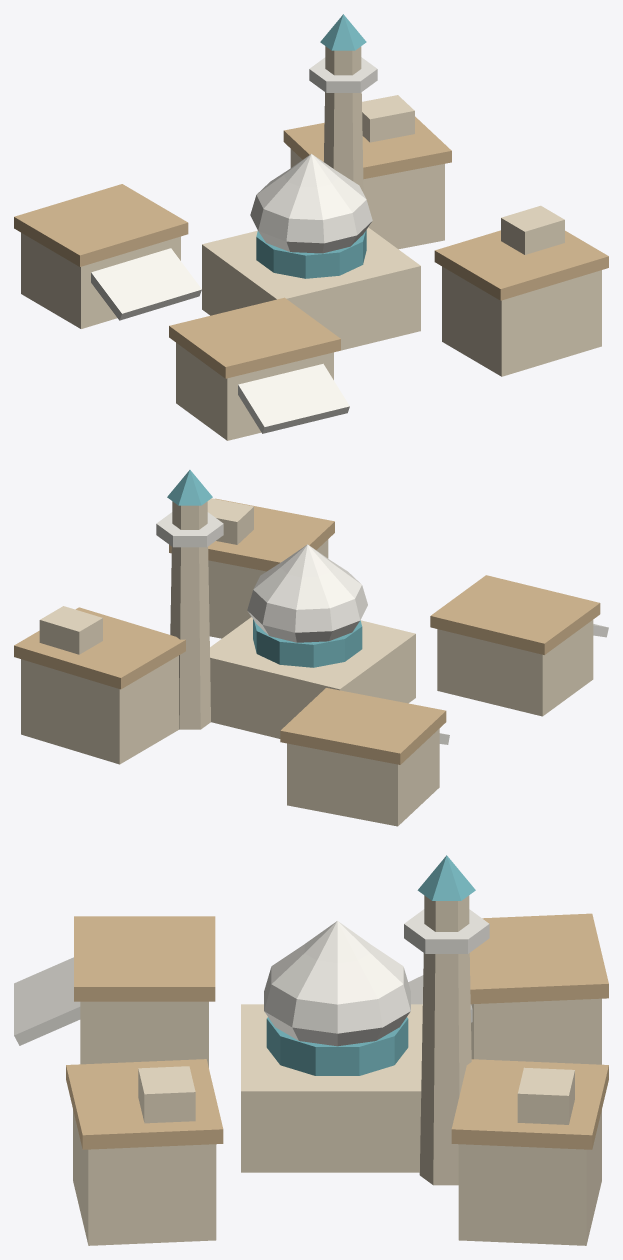
The model's file is town.glb.
3 views of the same model, one above another, from view 1: azimuth 30°, elevation 25°; view 2: azimuth 150°, elevation 25°; view 3: azimuth 270°, elevation 25° (orthographic). The views are drawn at different scales.
Visible parts, largest first — view 1: desert_town; view 2: desert_town; view 3: desert_town.
Boxes of the visible parts, x1,y1,x2,y2 form: desert_town: (14,14,608,440); desert_town: (14,470,608,826); desert_town: (14,855,608,1245).
Bounding box in the file's own units: 0.8807 × 0.55 × 0.9258.
